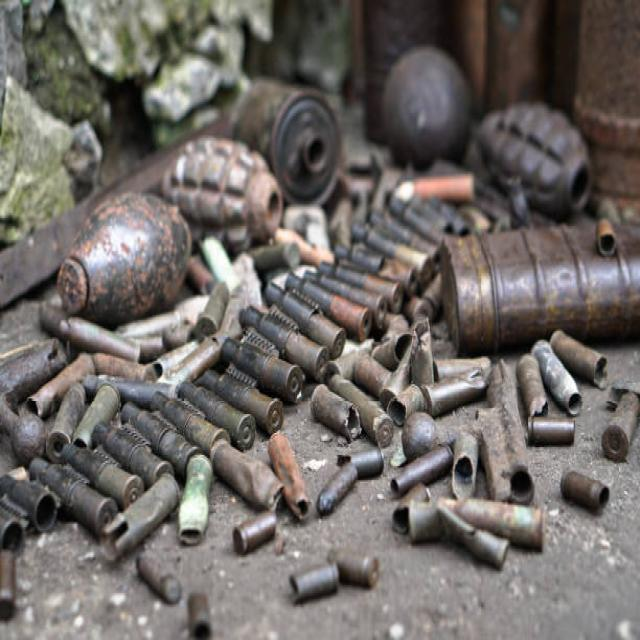grenade: (56, 178, 194, 325), (476, 96, 593, 221), (163, 138, 291, 249)
